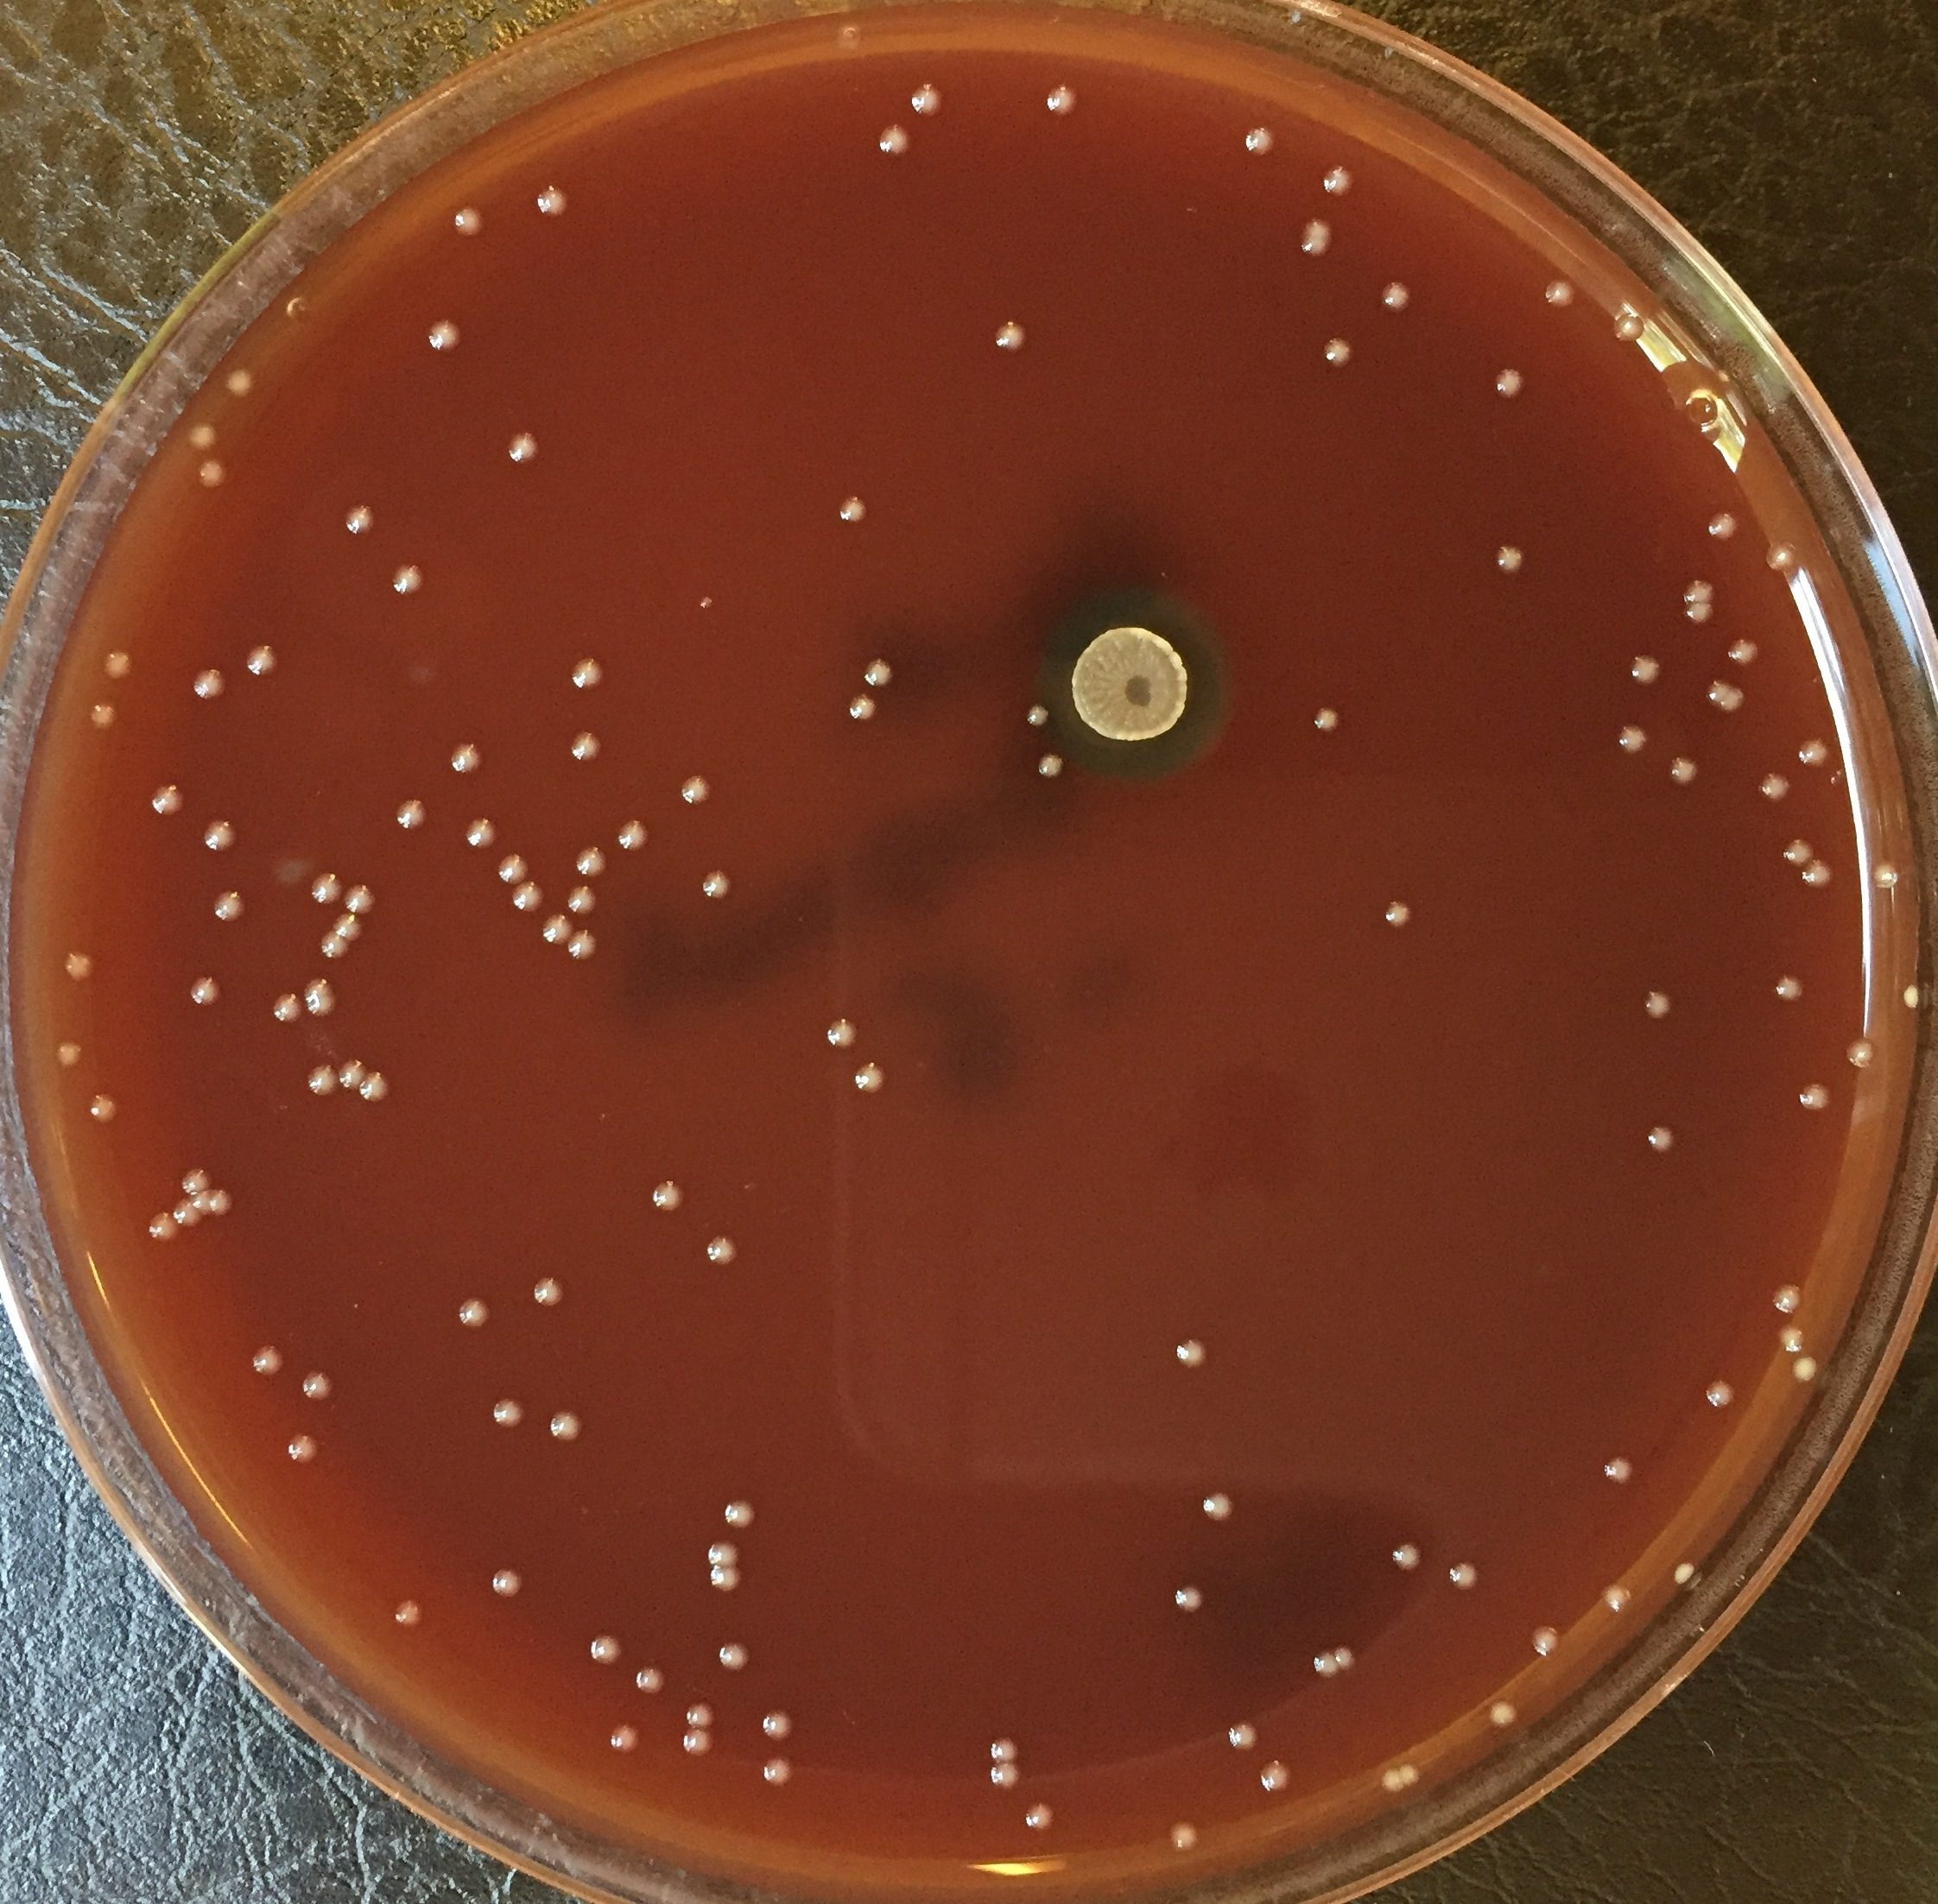sp06: (298, 971, 338, 1023), (391, 793, 429, 846), (188, 664, 234, 706), (455, 806, 495, 853), (705, 1231, 748, 1273), (218, 359, 262, 401), (197, 818, 244, 856), (841, 690, 881, 734), (208, 887, 251, 928), (544, 1409, 588, 1449), (1169, 1334, 1211, 1374), (1842, 1030, 1880, 1074), (905, 77, 949, 115), (1298, 218, 1334, 263), (389, 561, 429, 602), (181, 417, 222, 457), (1540, 275, 1582, 314), (281, 1430, 323, 1468), (529, 1271, 570, 1309), (1622, 649, 1662, 687), (504, 429, 543, 469), (572, 842, 611, 882), (305, 870, 345, 908), (246, 1343, 286, 1381), (455, 1295, 495, 1334), (490, 1393, 529, 1433), (1376, 279, 1415, 317), (569, 656, 607, 694), (1526, 1625, 1566, 1662), (1776, 835, 1816, 872), (1320, 162, 1357, 202), (532, 183, 572, 220), (447, 738, 483, 778), (297, 1369, 337, 1405), (448, 204, 490, 239), (645, 1182, 689, 1215), (1798, 856, 1837, 893), (1612, 722, 1650, 758), (1488, 364, 1526, 401), (1043, 80, 1082, 117), (677, 772, 713, 811), (509, 877, 546, 915), (84, 1088, 122, 1125), (148, 781, 185, 819), (1795, 734, 1835, 769), (862, 652, 897, 692), (616, 816, 651, 856), (307, 1058, 342, 1098), (850, 1060, 890, 1095), (1198, 1491, 1240, 1524), (984, 319, 1026, 352), (1258, 1756, 1294, 1792), (1641, 987, 1678, 1023), (1239, 124, 1275, 160), (1608, 309, 1645, 345), (567, 727, 604, 764), (143, 1208, 180, 1245), (720, 1496, 759, 1531), (340, 502, 375, 541), (539, 910, 574, 949), (342, 877, 377, 915), (359, 1064, 392, 1104), (424, 319, 466, 350), (488, 1566, 525, 1601), (680, 1724, 715, 1761), (1165, 1819, 1202, 1853), (330, 908, 366, 943), (270, 989, 305, 1025), (825, 1015, 862, 1050), (194, 455, 229, 492), (497, 849, 529, 889), (761, 1709, 795, 1744), (59, 949, 94, 983), (185, 973, 220, 1008), (759, 1756, 795, 1789), (1771, 1278, 1804, 1315), (1645, 1119, 1678, 1156), (1703, 511, 1739, 544), (565, 879, 598, 915), (609, 1719, 640, 1758), (1701, 1376, 1739, 1407), (1762, 541, 1800, 572), (876, 120, 914, 152), (631, 1662, 665, 1697), (717, 1641, 752, 1674), (1226, 1719, 1261, 1752), (1446, 1559, 1481, 1592), (1788, 1351, 1823, 1384), (1308, 703, 1341, 738), (1320, 335, 1354, 370), (54, 1036, 87, 1071), (389, 1594, 422, 1629), (1598, 1580, 1634, 1611), (1678, 577, 1716, 607), (705, 863, 734, 901), (590, 1632, 623, 1665), (1716, 682, 1750, 715), (708, 1562, 743, 1594), (1170, 1585, 1205, 1616), (1870, 860, 1905, 891), (1760, 769, 1791, 804), (246, 643, 277, 678), (1308, 1649, 1340, 1683), (1390, 1540, 1422, 1573), (1601, 1454, 1634, 1486), (565, 928, 597, 961), (99, 649, 131, 682), (706, 1540, 741, 1569), (989, 1759, 1024, 1789), (1022, 1801, 1057, 1831), (1795, 1083, 1830, 1112), (1491, 544, 1526, 574), (1683, 600, 1720, 628), (1723, 636, 1760, 664), (89, 701, 120, 732), (1774, 975, 1807, 1004), (1666, 753, 1696, 786), (1034, 751, 1068, 781), (1778, 1323, 1812, 1351), (1380, 898, 1415, 926), (836, 495, 870, 523), (319, 929, 347, 964), (1490, 1697, 1516, 1733), (1022, 703, 1052, 734), (1898, 982, 1926, 1015), (337, 1057, 365, 1090), (176, 1166, 209, 1194), (684, 1700, 713, 1730), (1668, 1559, 1697, 1588), (1378, 1770, 1409, 1798), (989, 1737, 1022, 1761), (174, 1198, 201, 1227), (1331, 1644, 1357, 1674), (211, 1184, 234, 1217), (1703, 675, 1729, 703), (190, 1187, 213, 1217), (1397, 1761, 1420, 1791), (698, 589, 712, 612)
